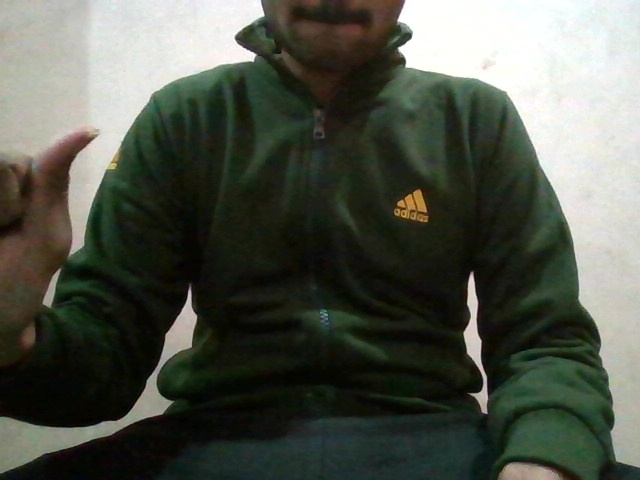A: (1, 122, 105, 360)
